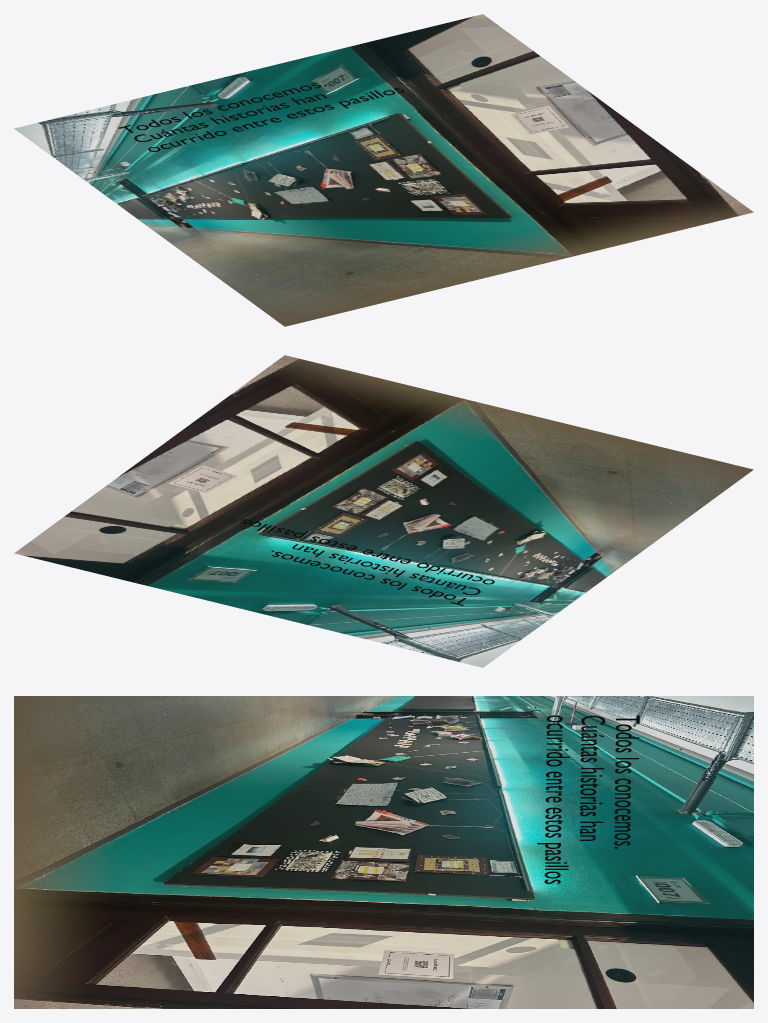
3 views of the same model, one above another, from view 1: azimuth 30°, elevation 25°; view 2: azimuth 150°, elevation 25°; view 3: azimuth 270°, elevation 25° (orthographic). The views are drawn at different scales.
Parts seen in each view (by area): view 1: Plane, Text; view 2: Plane, Text; view 3: Plane, Text.
Boxes of the visible parts, x1,y1,x2,y2 form: Plane: (14,14,753,326); Text: (118,83,404,151); Plane: (14,355,753,667); Text: (240,519,494,605); Plane: (14,696,753,1008); Text: (537,715,639,883).
Size of the model in its own units: 21.42 by 0.7055 by 21.42.
2 materials, 1 textured.
